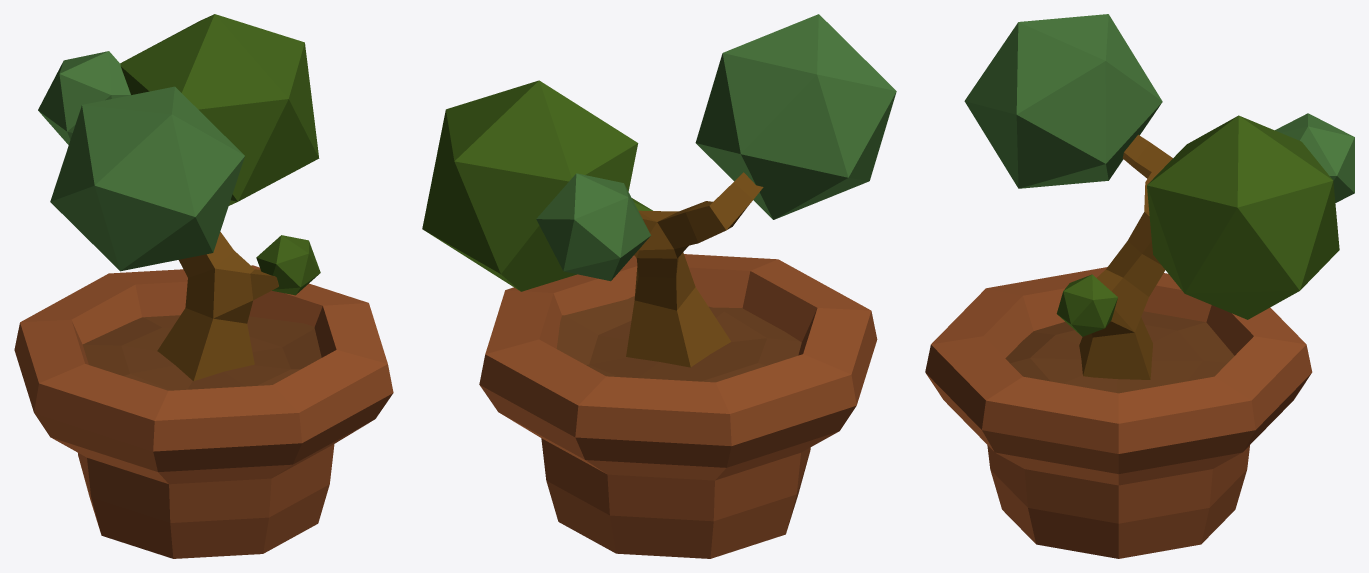
The model's file is PotPlant.fbx.
The picture shows the model from 3 angles, left to right: view 1: azimuth 30°, elevation 25°; view 2: azimuth 150°, elevation 25°; view 3: azimuth 270°, elevation 25°; orthographic projection. The views are drawn at different scales.
Parts seen in each view (by area): view 1: PlanterTree, PlanterTreeLeaves, PlanterTreeLeavesDarker, Stump, Earth; view 2: PlanterTree, PlanterTreeLeaves, PlanterTreeLeavesDarker, Stump, Earth; view 3: PlanterTree, PlanterTreeLeavesDarker, PlanterTreeLeaves, Earth, Stump.
Boxes of the visible parts, x1,y1,x2,y2 form: PlanterTree: (14, 265, 393, 558); PlanterTreeLeaves: (38, 51, 244, 271); PlanterTreeLeavesDarker: (120, 14, 320, 295); Stump: (157, 232, 278, 381); Earth: (82, 315, 321, 390); PlanterTree: (479, 254, 877, 558); PlanterTreeLeaves: (536, 14, 896, 281); PlanterTreeLeavesDarker: (422, 80, 652, 291); Stump: (626, 172, 763, 367); Earth: (556, 296, 801, 382); PlanterTree: (925, 267, 1312, 558); PlanterTreeLeavesDarker: (1056, 115, 1339, 336); PlanterTreeLeaves: (964, 14, 1354, 202); Earth: (1005, 311, 1234, 393); Stump: (1079, 134, 1172, 379).
Size of the model in its own units: 95.05 by 121 by 105.
